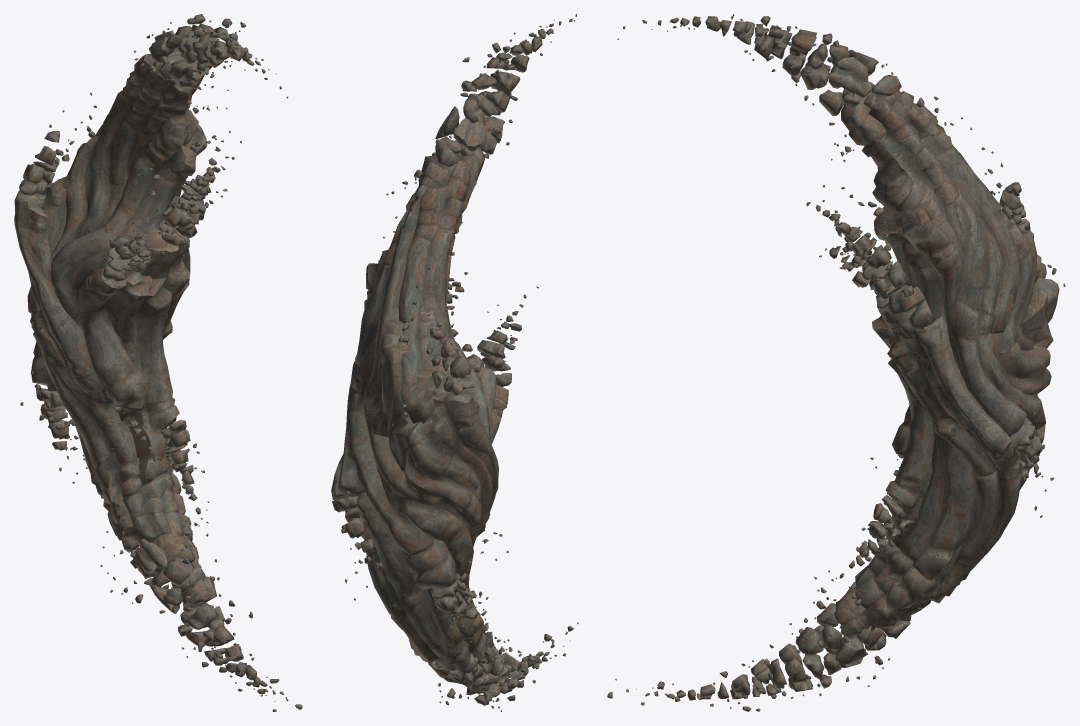
The model's file is bg_rad_kamen_rockpillar01c_sm.obj.
3 views of the same model, side by side, from view 1: azimuth 30°, elevation 25°; view 2: azimuth 150°, elevation 25°; view 3: azimuth 270°, elevation 25° (orthographic). The views are drawn at different scales.
Visible parts, largest first — view 1: bg_rad_kamen_rockpillar01c_sm_1, bg_rad_kamen_rockpillar01c_sm_0, bg_rad_kamen_rockpillar01c_sm_3; view 2: bg_rad_kamen_rockpillar01c_sm_0, bg_rad_kamen_rockpillar01c_sm_1, bg_rad_kamen_rockpillar01c_sm_3; view 3: bg_rad_kamen_rockpillar01c_sm_0, bg_rad_kamen_rockpillar01c_sm_1, bg_rad_kamen_rockpillar01c_sm_3.
Part boxes in pixels (x1=…): bg_rad_kamen_rockpillar01c_sm_1: x1=14, y1=200, x2=198, y2=573; bg_rad_kamen_rockpillar01c_sm_0: x1=15, y1=54, x2=207, y2=339; bg_rad_kamen_rockpillar01c_sm_3: x1=19, y1=14, x2=302, y2=711; bg_rad_kamen_rockpillar01c_sm_0: x1=331, y1=149, x2=496, y2=555; bg_rad_kamen_rockpillar01c_sm_1: x1=331, y1=385, x2=508, y2=670; bg_rad_kamen_rockpillar01c_sm_3: x1=332, y1=14, x2=578, y2=711; bg_rad_kamen_rockpillar01c_sm_0: x1=841, y1=81, x2=1046, y2=476; bg_rad_kamen_rockpillar01c_sm_1: x1=833, y1=235, x2=1059, y2=639; bg_rad_kamen_rockpillar01c_sm_3: x1=607, y1=14, x2=1054, y2=711.
Bounding box in the file's own units: 2.29 × 9.2 × 5.48.
4 materials, 4 textured.
